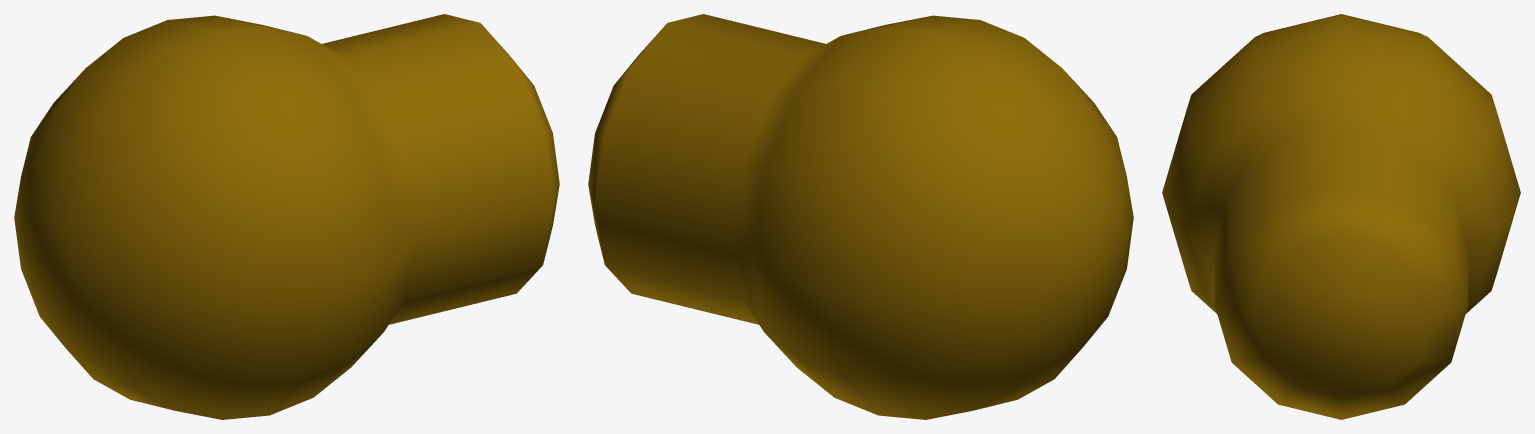
File: Light_Bulb_06.fbx
3 renders of one model, left to right at view 1: azimuth 30°, elevation 25°; view 2: azimuth 150°, elevation 25°; view 3: azimuth 270°, elevation 25°, orthographic. The views are drawn at different scales.
Visible parts, largest first — view 1: Light_Bulb_06; view 2: Light_Bulb_06; view 3: Light_Bulb_06.
Boxes of the visible parts, x1,y1,x2,y2 form: Light_Bulb_06: (14,14,559,419); Light_Bulb_06: (588,14,1133,419); Light_Bulb_06: (1162,14,1520,419).
Size of the model in its own units: 8.54 by 6.16 by 6.16.
